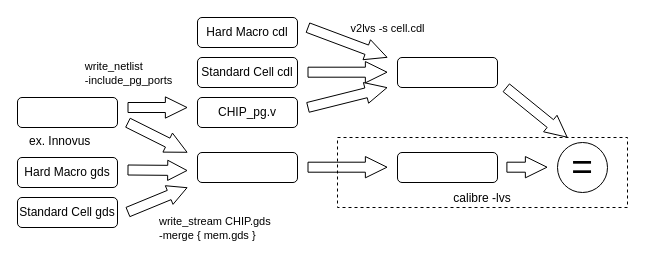
The diagram is 645 pixels wide and 258 high, and some of its shapes have lost their labels. Each missing label, with the centre of its shape:
"APR Software" belongs at pixel 67 112.
"CHIP.gds" belongs at pixel 247 167.
"LAYOUT.spi" belongs at pixel 447 167.
"SOURCE.spi" belongs at pixel 447 72.
